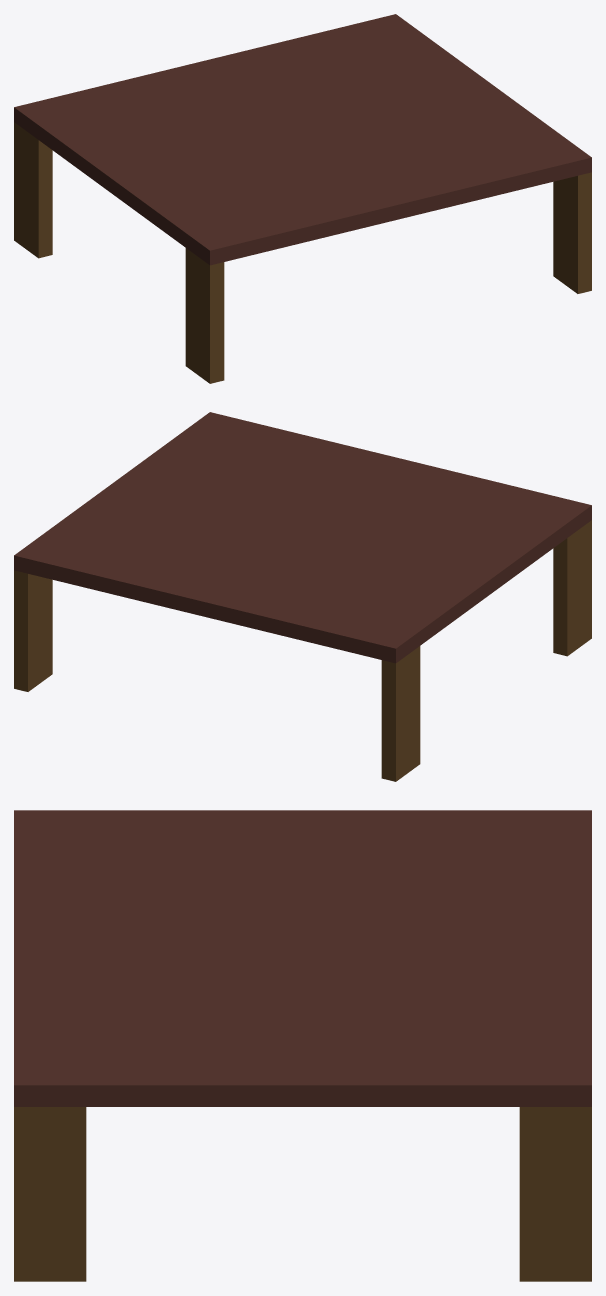
The model's file is furniture.vox-0-dining-table.obj.
The picture shows the model from 3 angles, top to bottom: view 1: azimuth 30°, elevation 25°; view 2: azimuth 150°, elevation 25°; view 3: azimuth 270°, elevation 25°; orthographic projection. The views are drawn at different scales.
Parts seen in each view (by area): view 1: dining-table; view 2: dining-table; view 3: dining-table.
Part boxes in pixels (x1,y1,x2,y2): dining-table: (14, 14, 591, 383); dining-table: (14, 412, 591, 781); dining-table: (14, 810, 591, 1281).
Size of the model in its own units: 2.7 by 0.9 by 2.4.
Materials: 1 (1 with a texture image).
